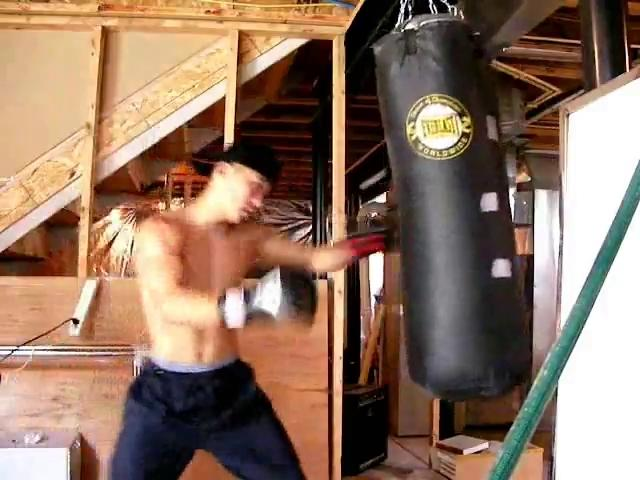victim: (103, 137, 387, 480)
